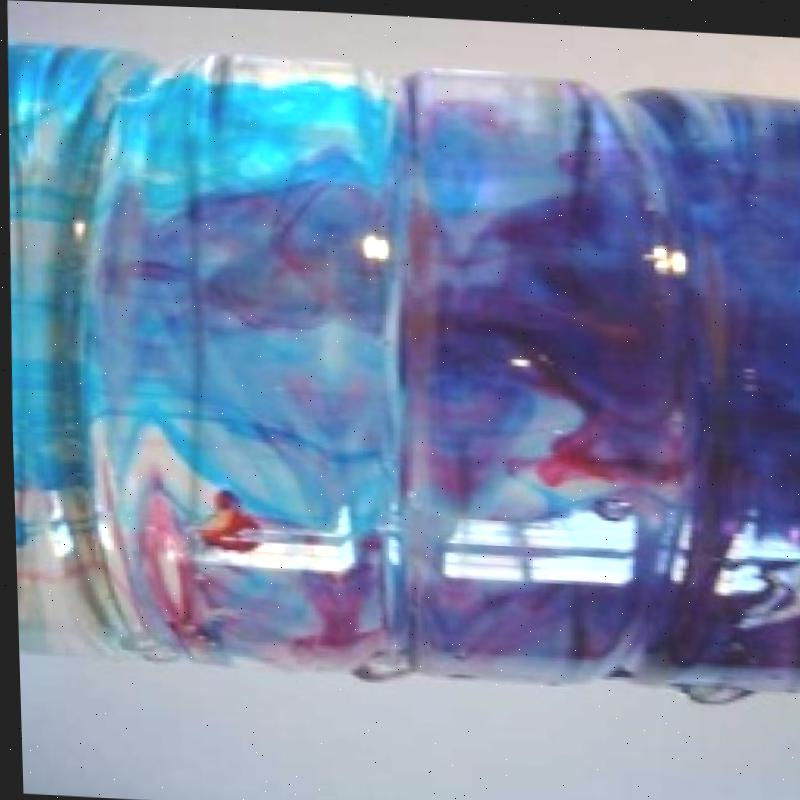botella: (1, 36, 800, 702)
